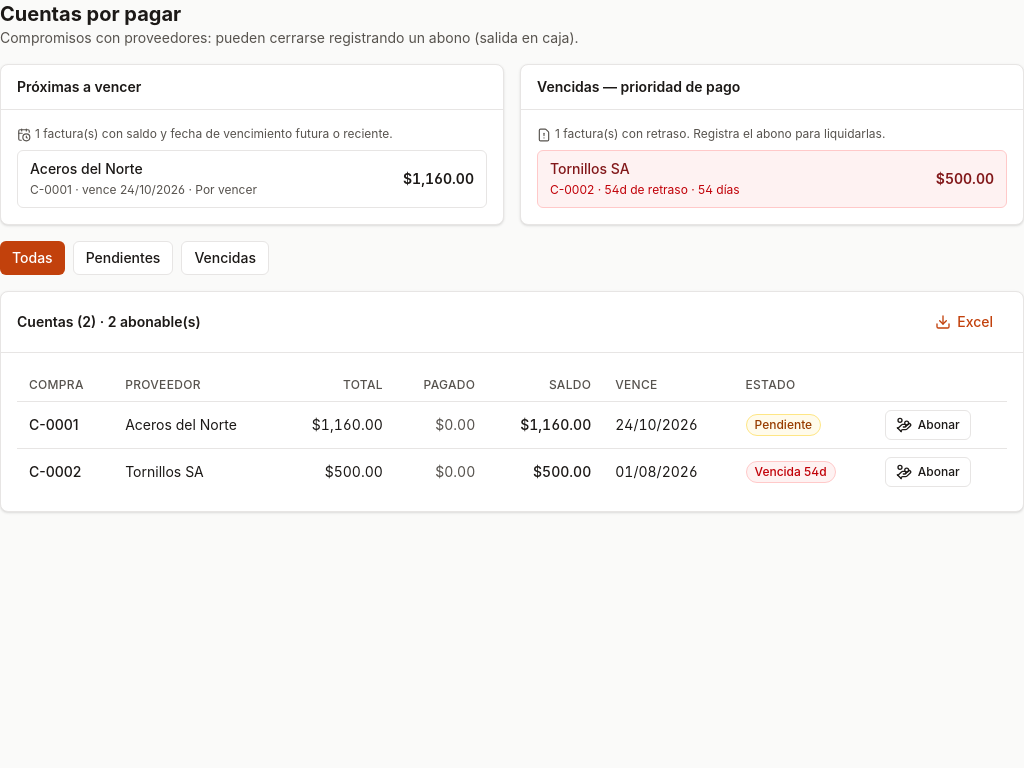
Scenario: CuentasPagarPage (smoke) › 'Abonar' abre el diálogo de abono con el saldo
Expected: the text "C-0001" is shown, [29,416,79,433]
Click the 1st button "Abonar" at (928, 425), box [885,410,971,440]
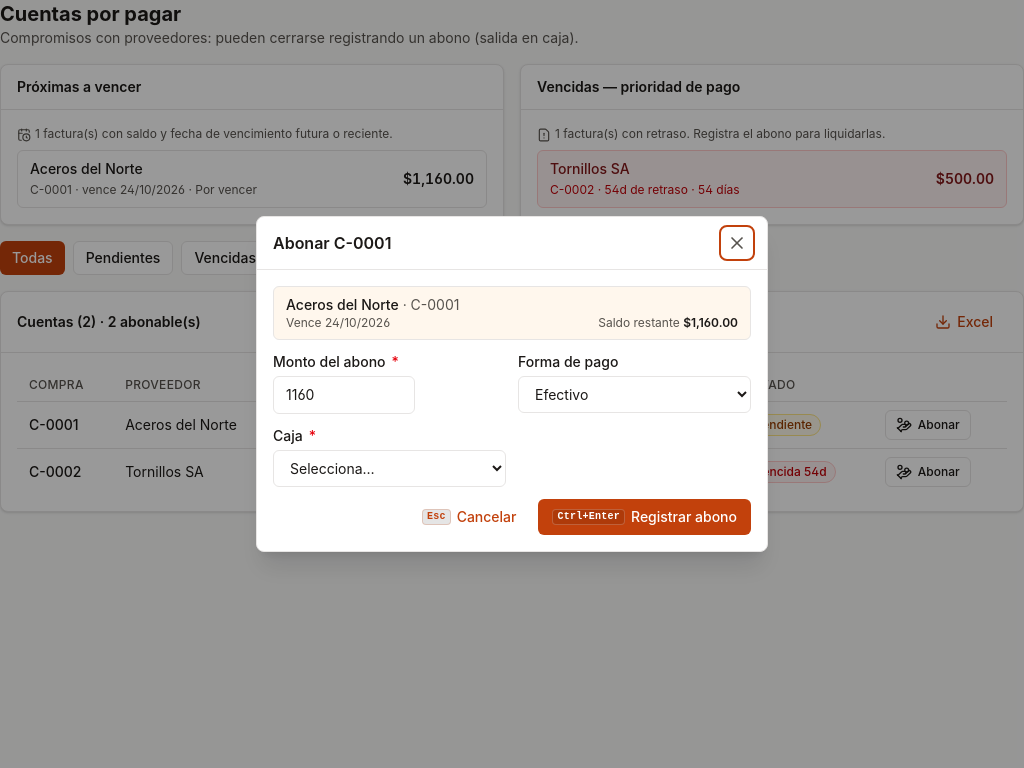
Expected: the heading "Abonar C-0001" is shown, [273,231,391,255]
Expected: the number field labelled "Monto del abono *" is shown, [273,376,415,414]
Expected: the dropdown labelled "Caja *" is shown, [273,450,506,487]
